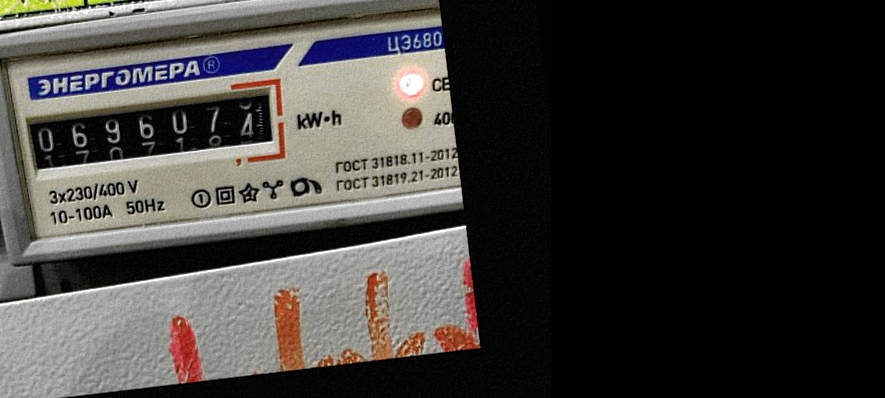0: (34, 124, 58, 154), (169, 105, 190, 136), (69, 120, 89, 148)
4: (236, 110, 256, 140)
6: (134, 109, 156, 141)
7: (202, 102, 223, 133)
9: (102, 115, 123, 145)
screen: (10, 74, 292, 189)
